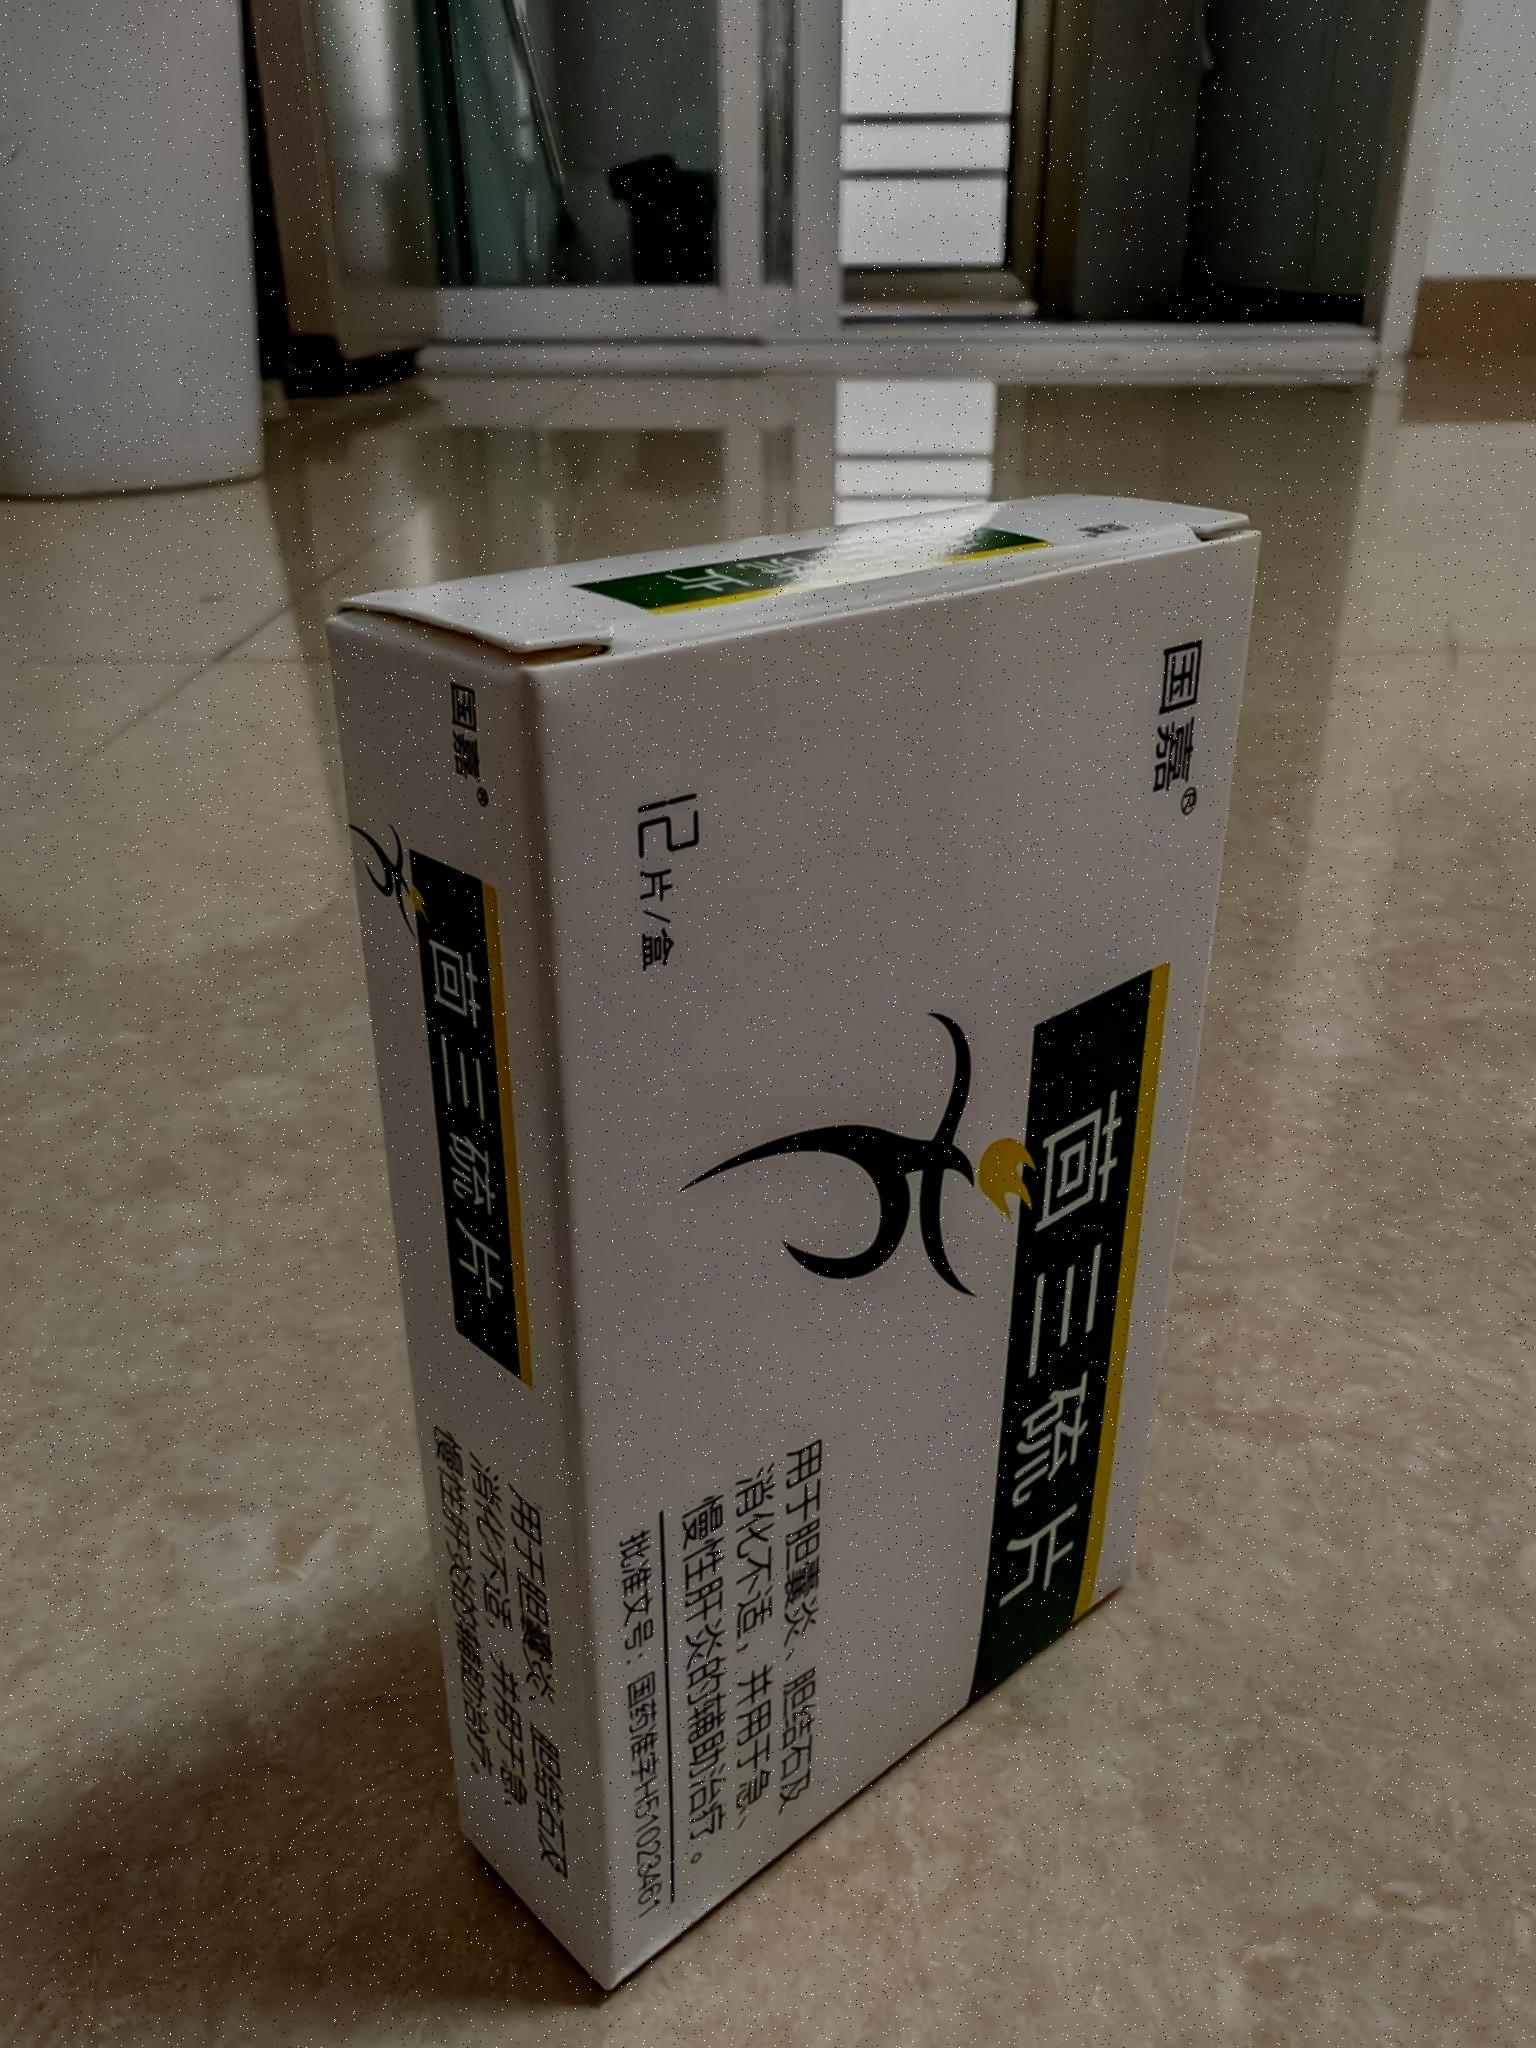Medicine4: (313, 476, 1288, 2004)
